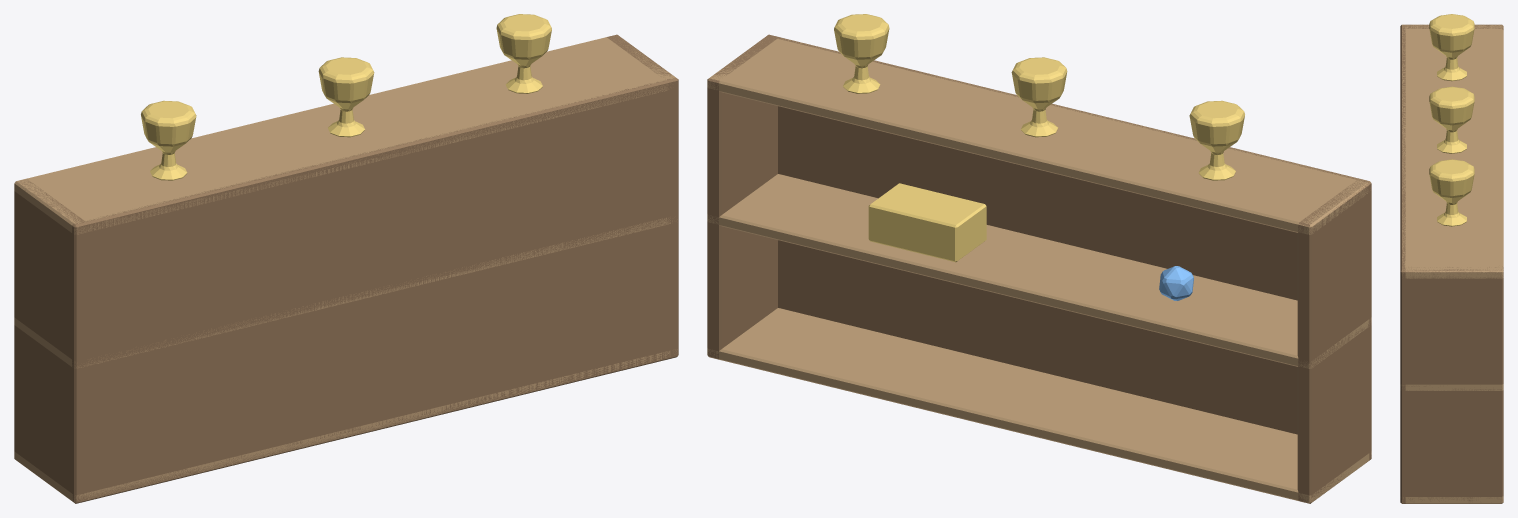
The model's file is HubTrophyShelf.fbx.
3 renders of one model, left to right at view 1: azimuth 30°, elevation 25°; view 2: azimuth 150°, elevation 25°; view 3: azimuth 270°, elevation 25°, orthographic. The views are drawn at different scales.
Parts seen in each view (by area): view 1: HubTrophyShelf; view 2: HubTrophyShelf; view 3: HubTrophyShelf.
Part boxes in pixels (x1,y1,x2,y2): HubTrophyShelf: (14,14,678,503); HubTrophyShelf: (707,14,1371,503); HubTrophyShelf: (1400,14,1503,503).
Bounding box in the file's own units: 3.4 × 1.84 × 0.6.
